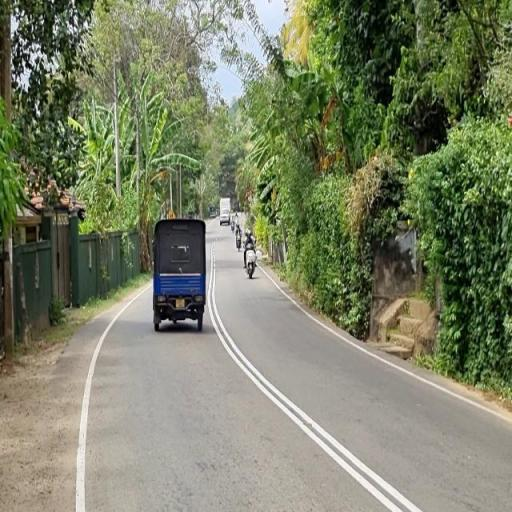double_white_line: (210, 306, 430, 512)
